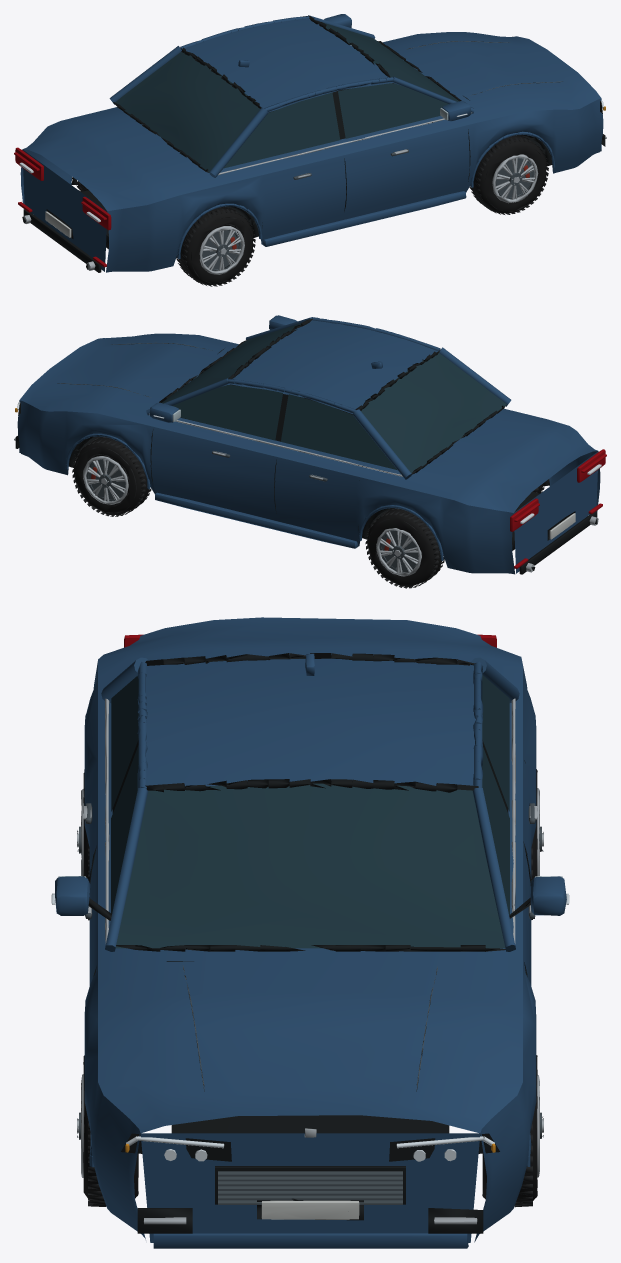
File: collection.glb
3 renders of one model, top to bottom at view 1: azimuth 30°, elevation 25°; view 2: azimuth 150°, elevation 25°; view 3: azimuth 270°, elevation 25°, orthographic. The views are drawn at different scales.
Visible parts, largest first — view 1: sedan__lod0; view 2: sedan__lod0; view 3: sedan__lod0.
Boxes of the visible parts, x1,y1,x2,y2 form: sedan__lod0: [14, 14, 606, 286]; sedan__lod0: [14, 315, 606, 588]; sedan__lod0: [51, 617, 569, 1248].
Size of the model in its own units: 4.89 by 1.52 by 2.14.
